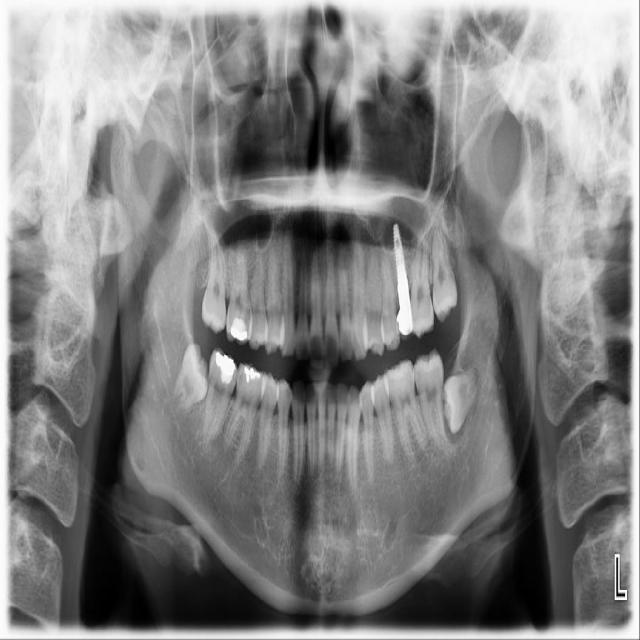Crown: (396, 302, 413, 341)
Filling: (216, 351, 236, 384), (230, 317, 247, 340), (244, 366, 260, 384)
Implant: (393, 223, 413, 305)
impacted tooth: (165, 346, 206, 413), (442, 364, 476, 432)
